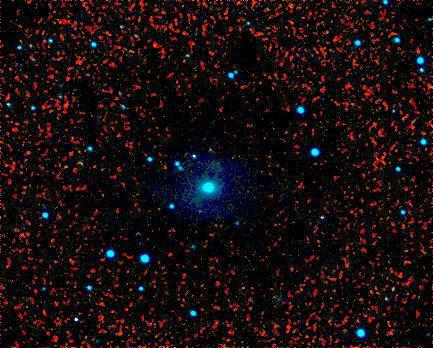star: (186, 196, 216, 226)
